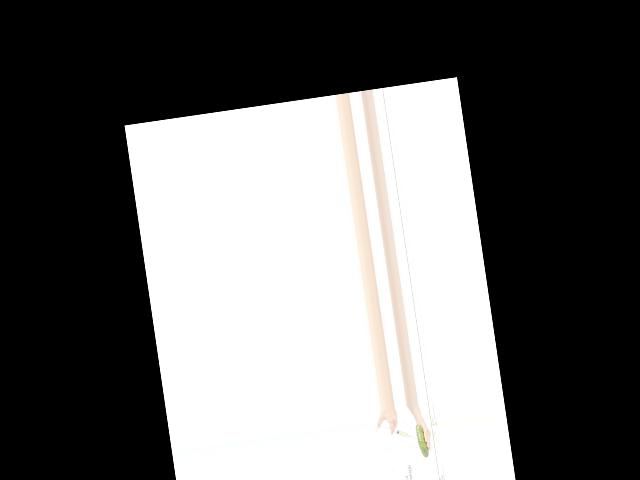cucumber: (415, 423, 429, 458)
